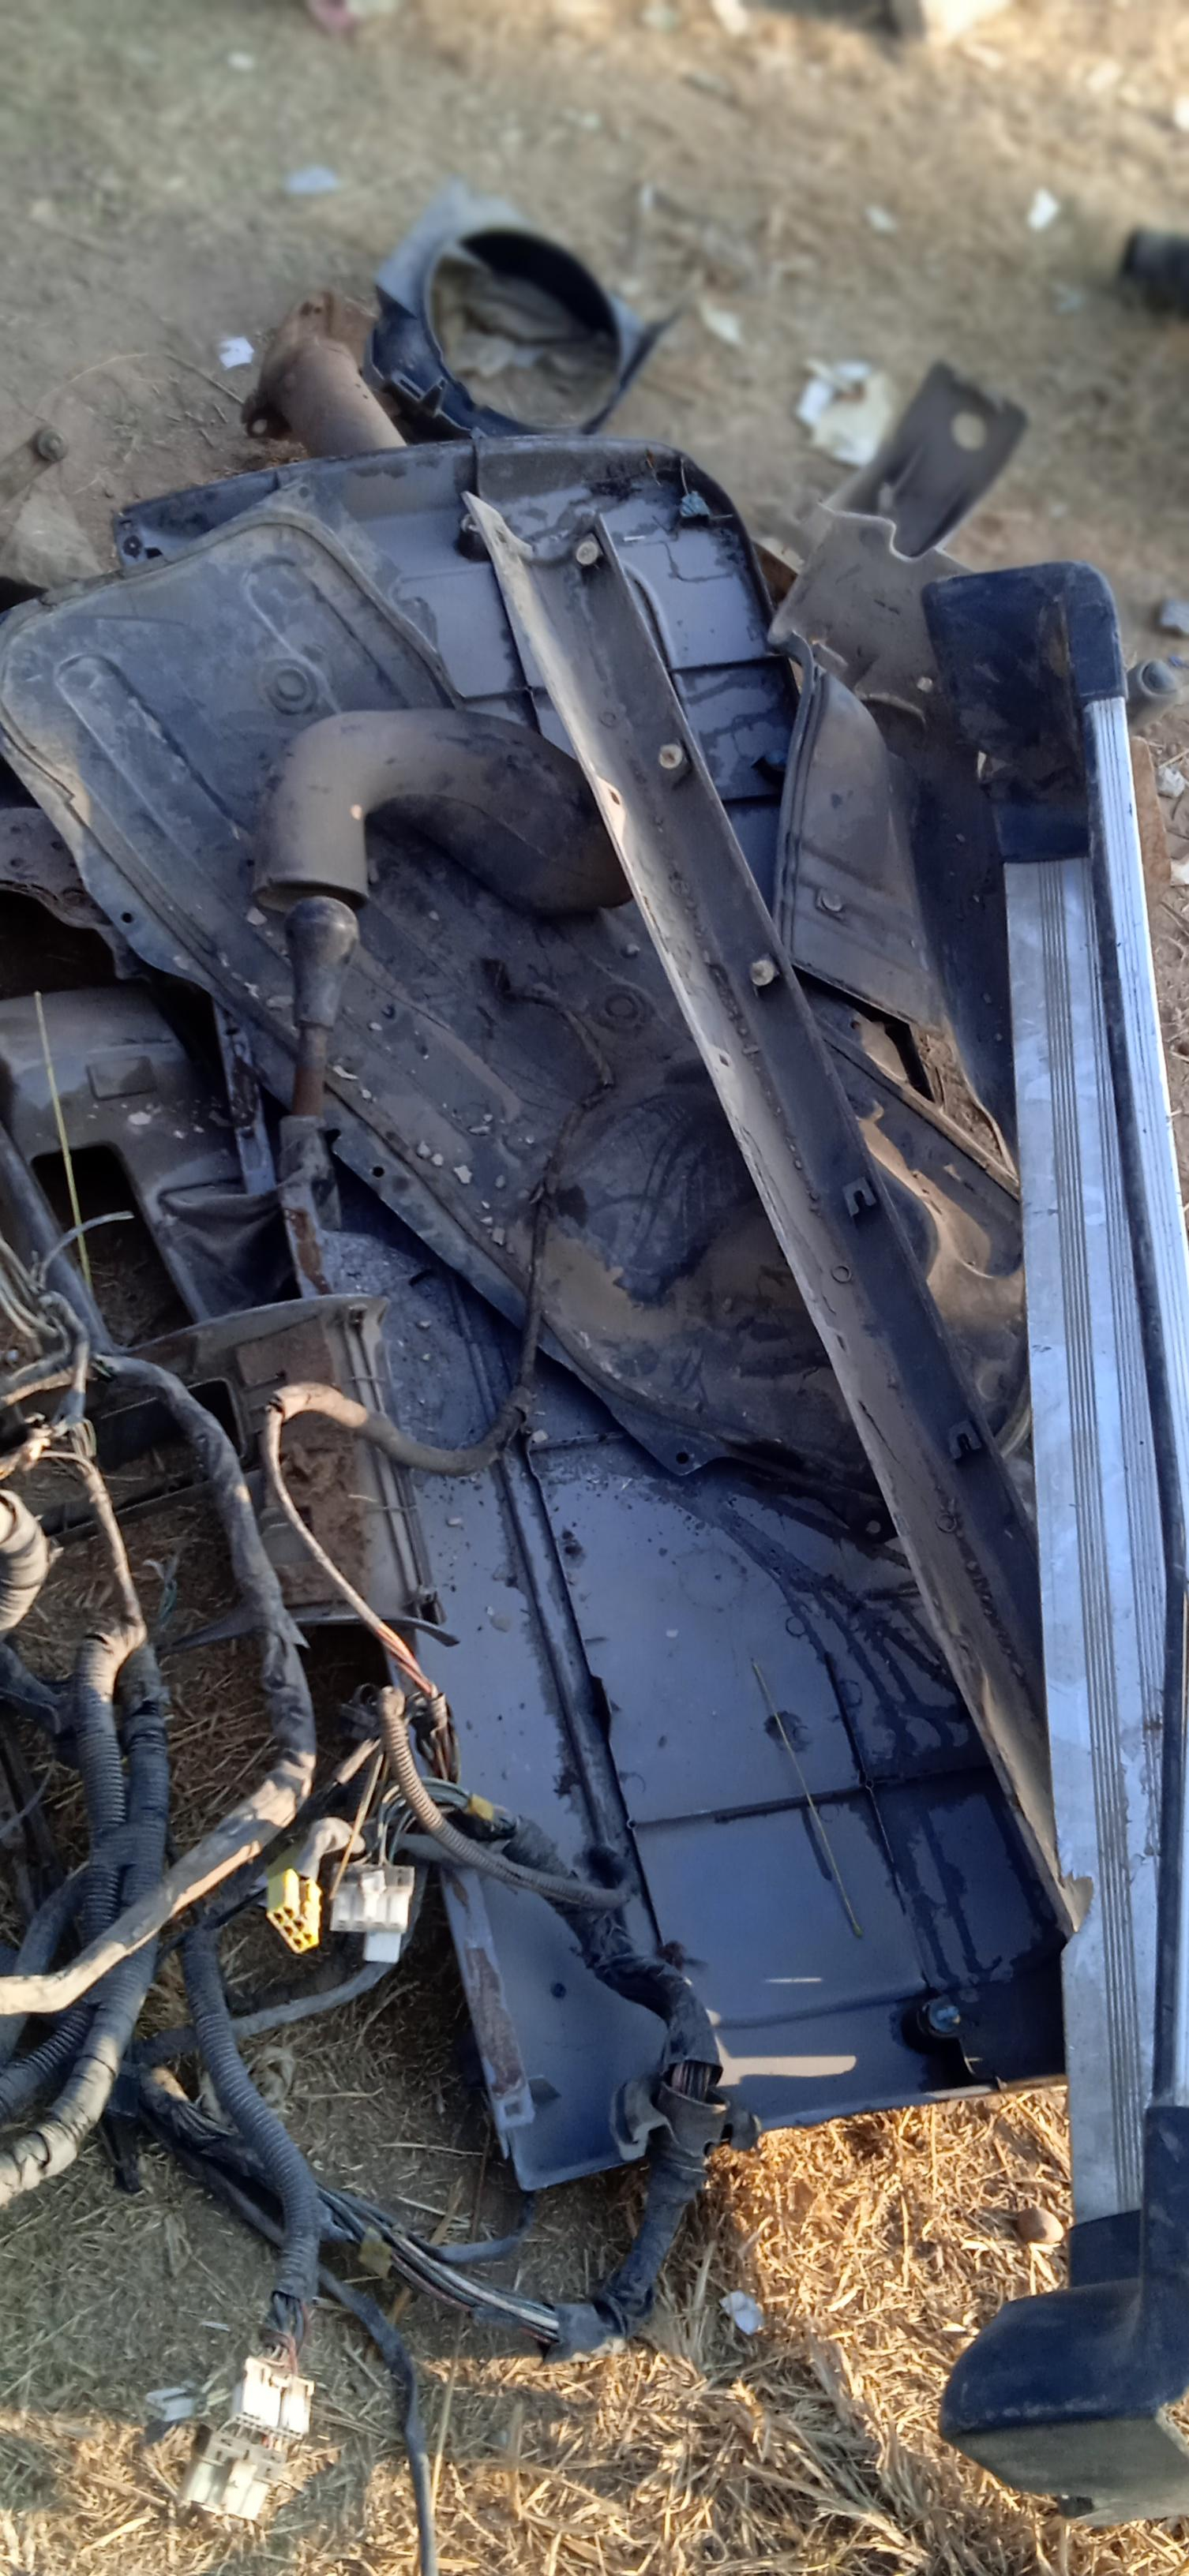automobile: (0, 199, 1189, 2461)
